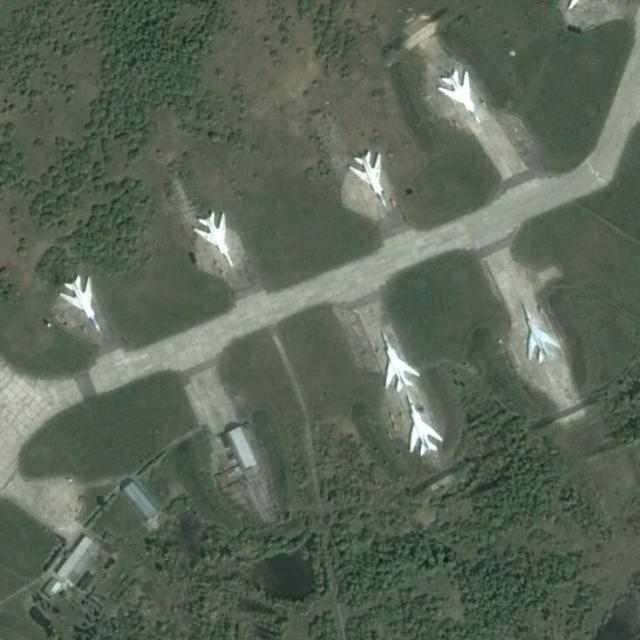fighter jet: (185, 206, 242, 268), (433, 60, 487, 122), (342, 146, 392, 206), (515, 303, 561, 367), (371, 332, 422, 388), (400, 397, 444, 459), (54, 273, 102, 327)
